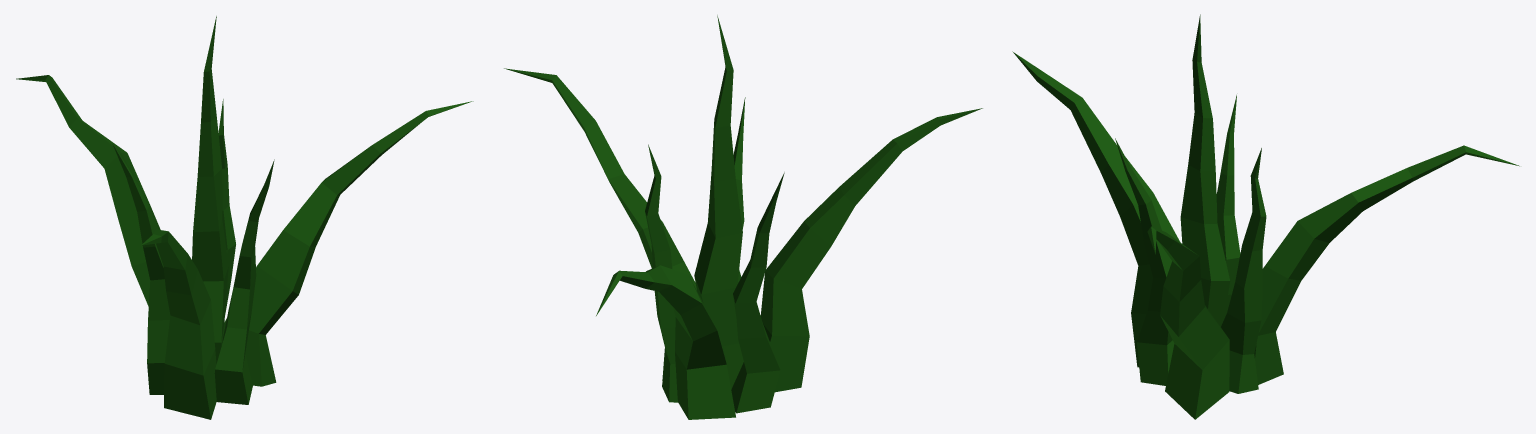
File: grass_2_2.fbx
The picture shows the model from 3 angles, left to right: view 1: azimuth 30°, elevation 25°; view 2: azimuth 150°, elevation 25°; view 3: azimuth 270°, elevation 25°; orthographic projection.
Visible parts, largest first — view 1: Cone015, Cone014, Cone017, Cone020, Cone016, Cone018, Cone019; view 2: Cone014, Cone017, Cone016, Cone018, Cone015, Cone019, Cone020; view 3: Cone016, Cone015, Cone017, Cone014, Cone019, Cone020, Cone018.
Part boxes in pixels (x1,y1,x2,y2): Cone015: (224,101,473,386); Cone014: (141,229,216,419); Cone017: (192,16,228,363); Cone020: (214,159,274,404); Cone016: (16,75,160,306); Cone018: (112,144,170,394); Cone019: (218,99,235,322); Cone014: (760,108,982,392); Cone017: (694,15,743,389); Cone016: (596,265,735,419); Cone018: (731,172,784,413); Cone015: (504,68,696,380); Cone019: (645,144,677,402); Cone020: (733,97,745,283); Cone016: (1254,145,1519,384); Cone015: (1147,226,1229,419); Cone017: (1180,14,1230,326); Cone014: (1012,51,1180,367); Cone019: (1221,148,1266,393); Cone020: (1115,138,1174,385); Cone018: (1216,95,1240,319).
Size of the model in its own units: 57.79 by 51.78 by 63.18.
